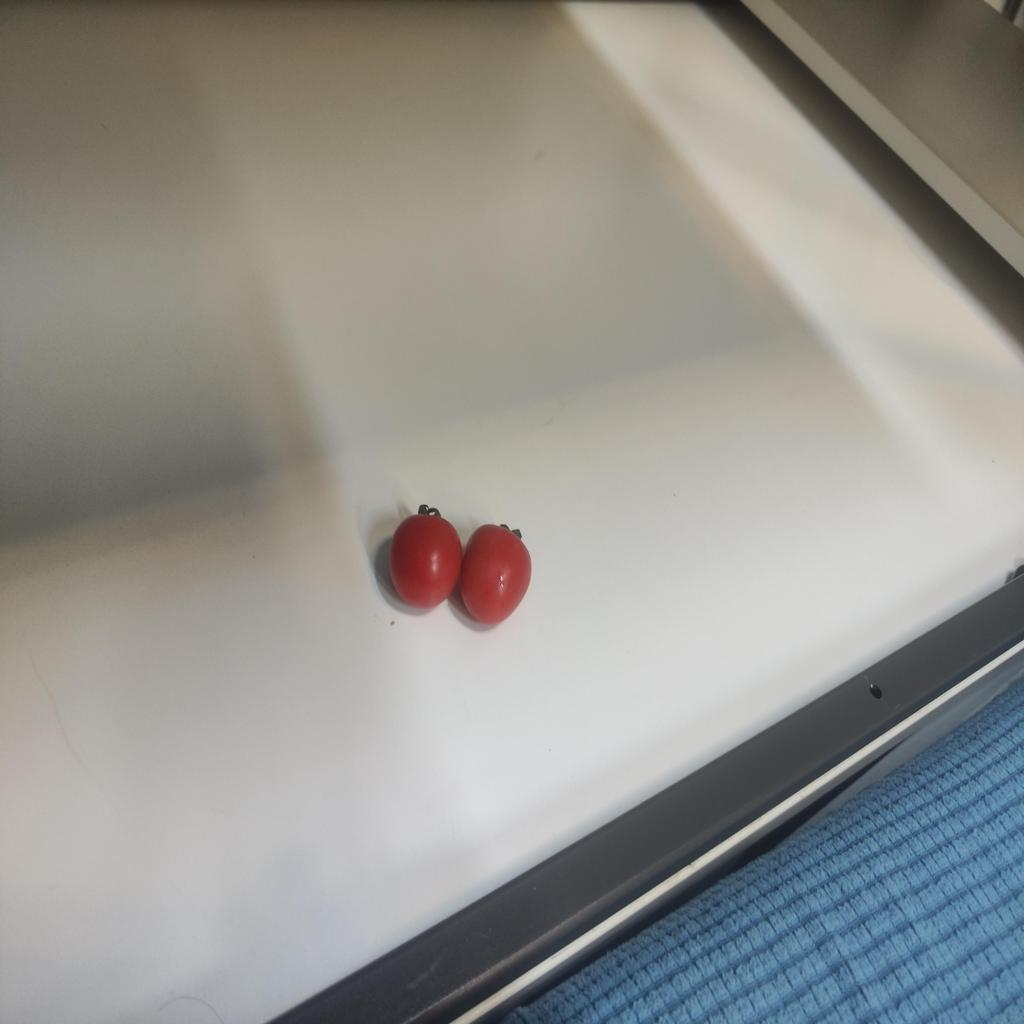tomato: (459, 523, 536, 627), (385, 513, 463, 607)
